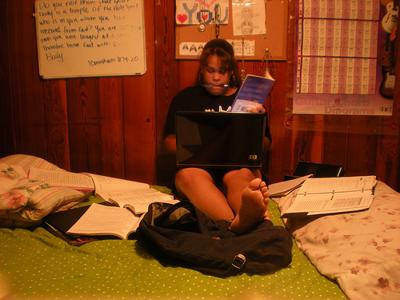person: (159, 38, 273, 234)
